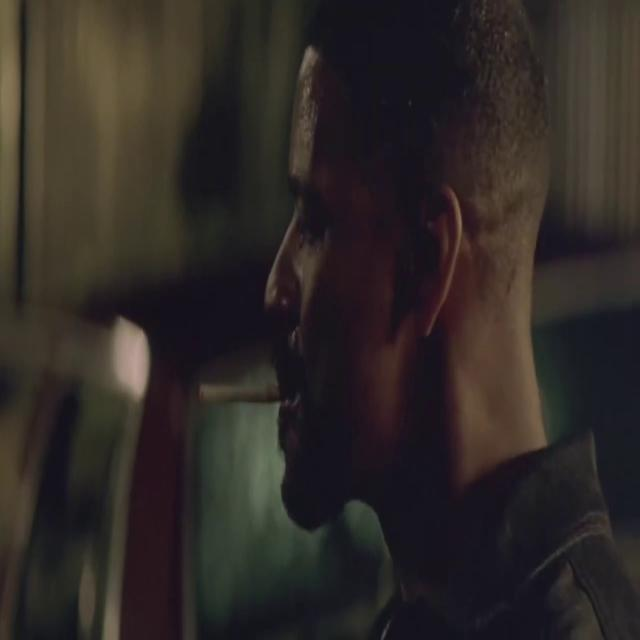Smooking: (194, 360, 290, 432)
